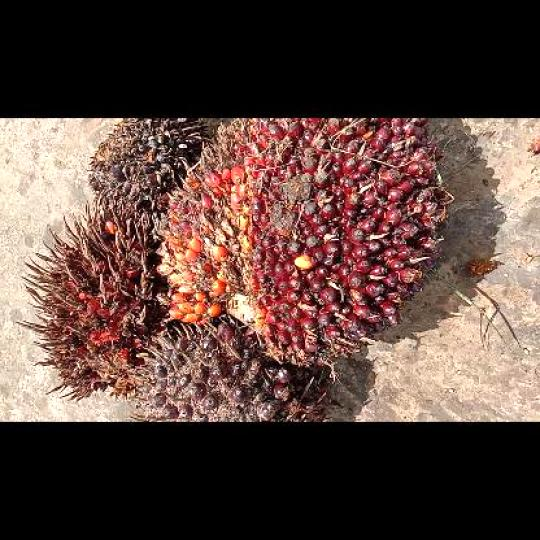kurang masak: (129, 320, 328, 421)
masak: (155, 117, 453, 363)
terlalu masak: (18, 197, 157, 403)
